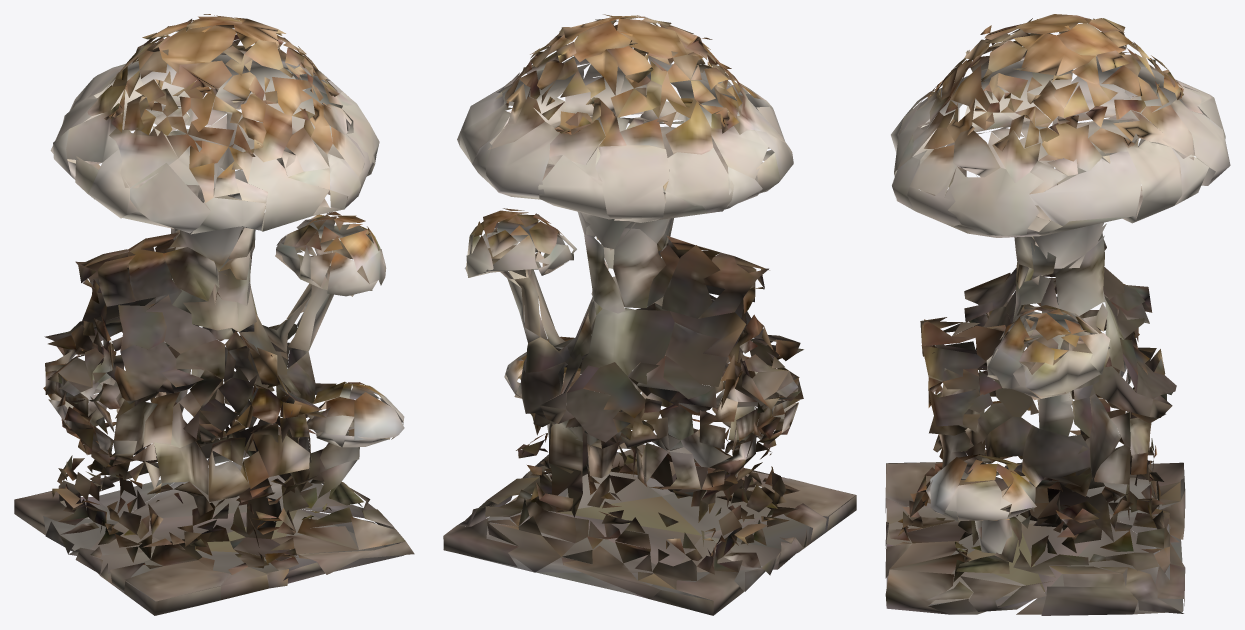
Rendered from Toadstool_Tavern_town.glb.
3 views of the same model, side by side, from view 1: azimuth 30°, elevation 25°; view 2: azimuth 150°, elevation 25°; view 3: azimuth 270°, elevation 25° (orthographic). The views are drawn at different scales.
Visible parts, largest first — view 1: Toadstool_Tavern; view 2: Toadstool_Tavern; view 3: Toadstool_Tavern.
Boxes of the visible parts, x1,y1,x2,y2 form: Toadstool_Tavern: (14, 14, 414, 615); Toadstool_Tavern: (443, 14, 856, 615); Toadstool_Tavern: (885, 14, 1230, 615).
Bounding box in the file's own units: 1.32 × 1.99 × 1.18.
1 material, 1 textured.
